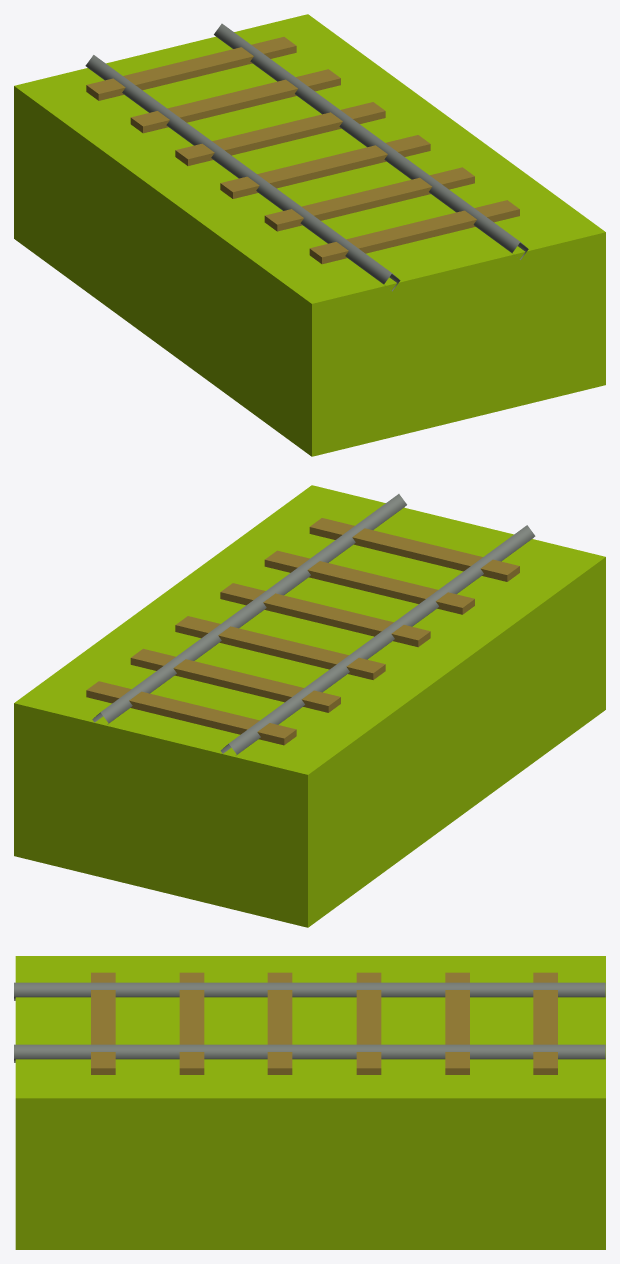
Rendered from team.fbx.
The picture shows the model from 3 angles, top to bottom: view 1: azimuth 30°, elevation 25°; view 2: azimuth 150°, elevation 25°; view 3: azimuth 270°, elevation 25°; orthographic projection.
Visible parts, largest first — view 1: NurbsPath.001; view 2: NurbsPath.001; view 3: NurbsPath.001.
Part boxes in pixels (x1,y1,x2,y2): NurbsPath.001: (14,14,605,456); NurbsPath.001: (14,485,605,927); NurbsPath.001: (14,956,605,1249).
Size of the model in its own units: 272 by 146 by 478.
